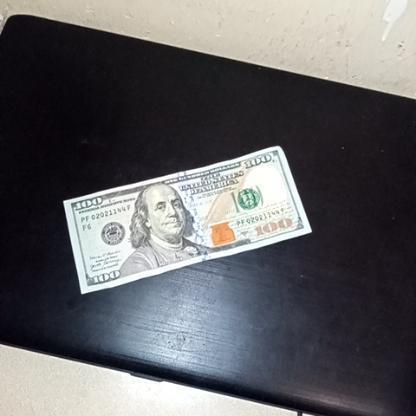one_hundred-front: (62, 141, 315, 296)
